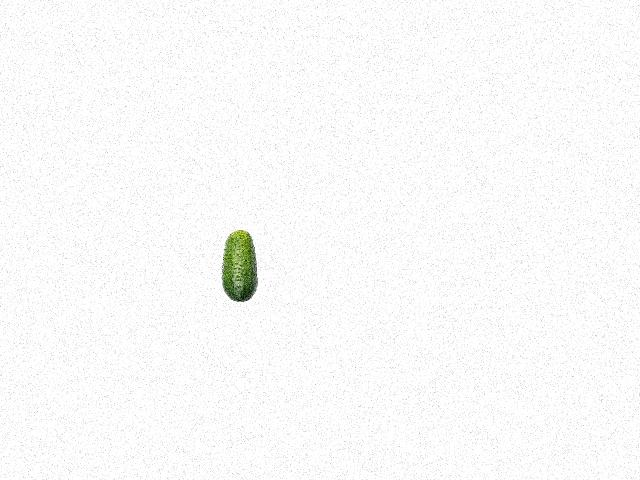cucumber: (220, 229, 257, 302)
